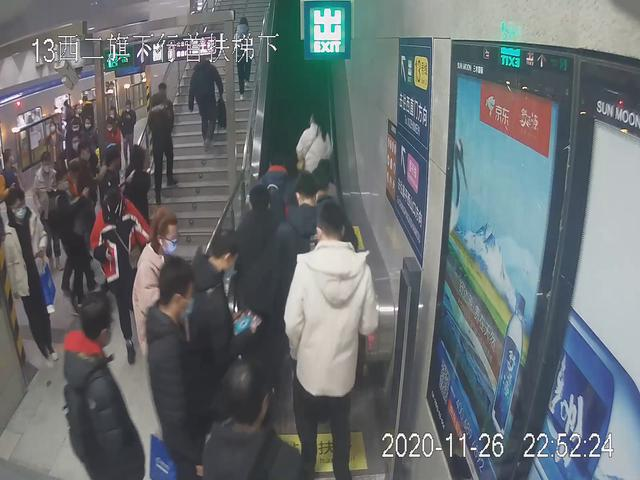person: (280, 199, 379, 479), (145, 257, 221, 475), (63, 296, 153, 480), (204, 358, 301, 480), (90, 181, 155, 357), (134, 207, 191, 399), (285, 174, 353, 322), (4, 188, 58, 359), (183, 45, 231, 152), (293, 106, 334, 183), (149, 84, 176, 197), (231, 14, 255, 100)
